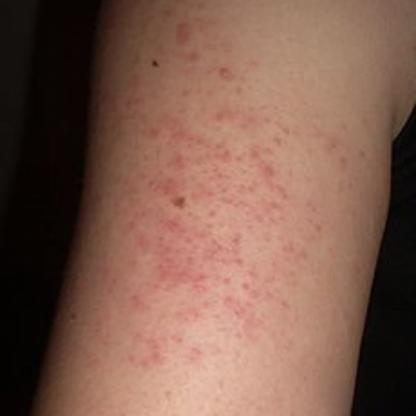Chicken Skin: (131, 52, 284, 391)
